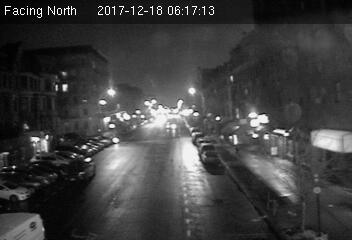car: (60, 158, 96, 183), (199, 150, 220, 163)
